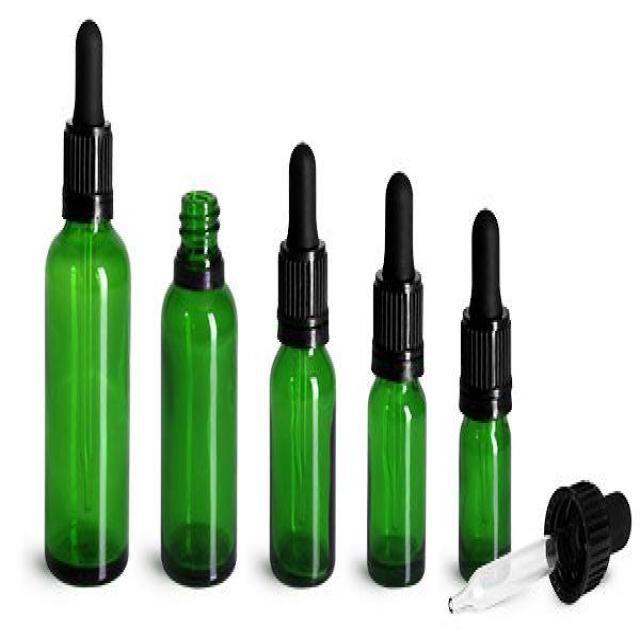non-organic waste: (44, 14, 132, 588)
